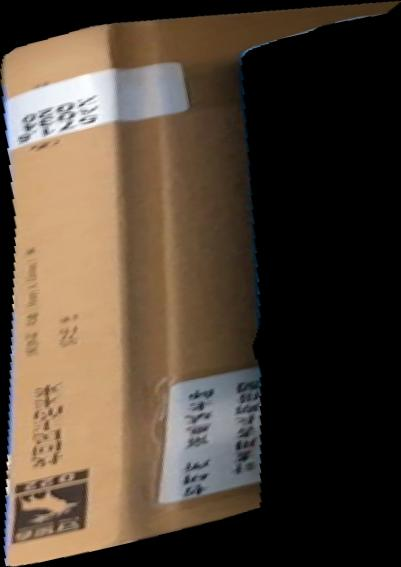reverse: (1, 1, 401, 567)
